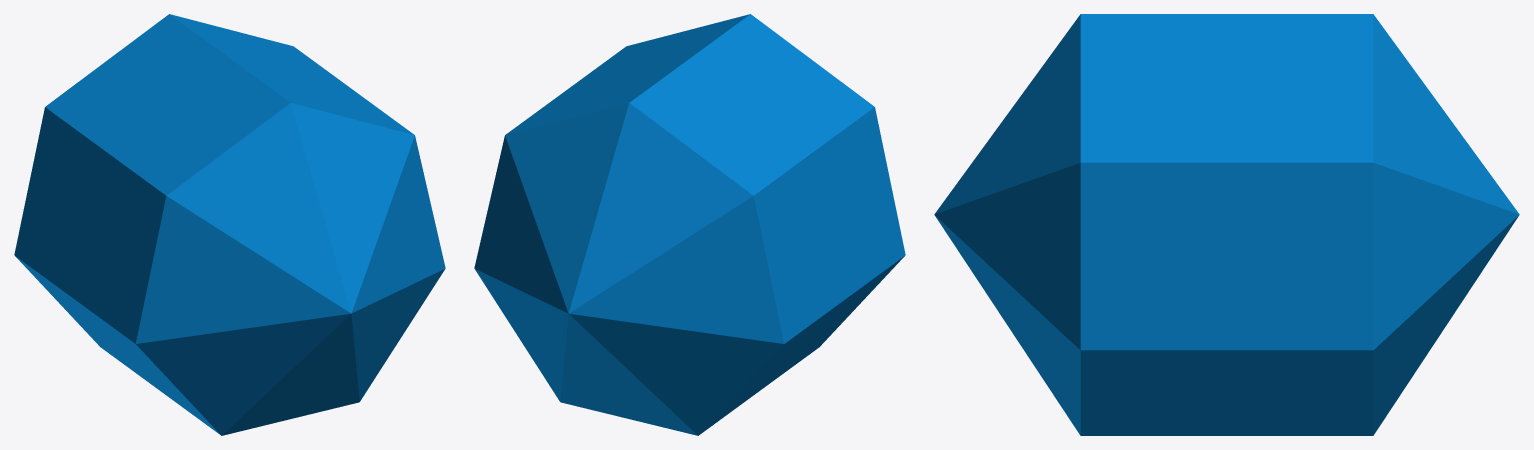
Rendered from Safira.fbx.
3 views of the same model, side by side, from view 1: azimuth 30°, elevation 25°; view 2: azimuth 150°, elevation 25°; view 3: azimuth 270°, elevation 25° (orthographic). The views are drawn at different scales.
Parts seen in each view (by area): view 1: sapphire; view 2: sapphire; view 3: sapphire.
Boxes of the visible parts, left/top/right/bottom form: sapphire: left=14, top=14, right=445, bottom=435; sapphire: left=474, top=14, right=905, bottom=435; sapphire: left=934, top=14, right=1519, bottom=435.
Bounding box in the file's own units: 71.37 × 69.58 × 96.82.
